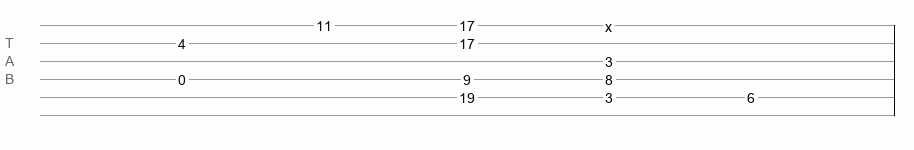0: (178, 72, 186, 82)
11: (316, 18, 332, 28)
17: (459, 18, 475, 28), (459, 36, 475, 46)
19: (459, 90, 475, 100)
3: (605, 90, 613, 100), (605, 54, 613, 64)
4: (178, 36, 186, 46)
6: (747, 90, 755, 100)
8: (605, 72, 613, 82)
9: (463, 72, 471, 82)
x: (605, 19, 612, 27)
